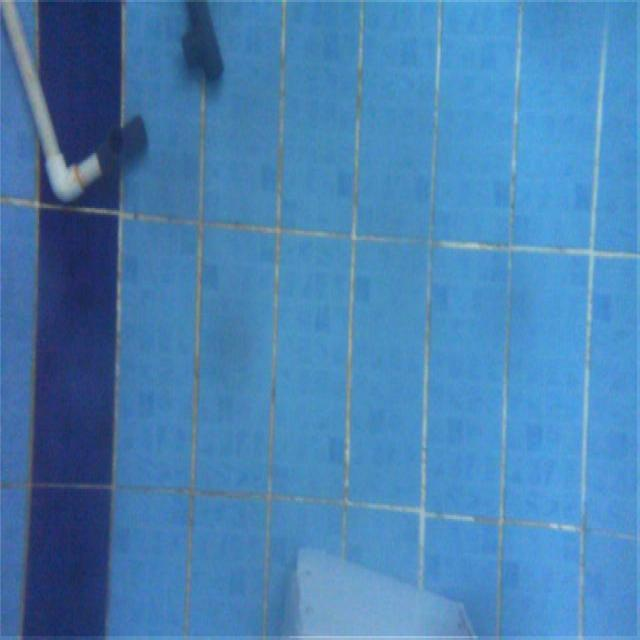Cube: (1, 2, 637, 636)
Cuboid: (289, 540, 478, 638)
